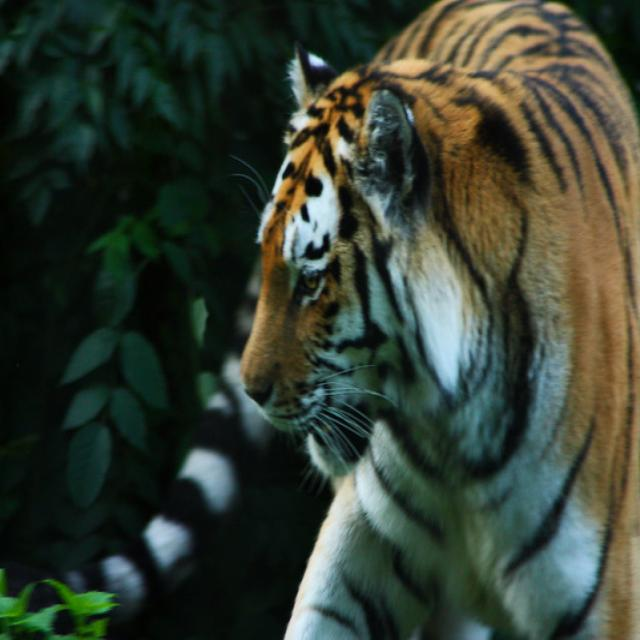Tiger: (41, 0, 638, 638)
